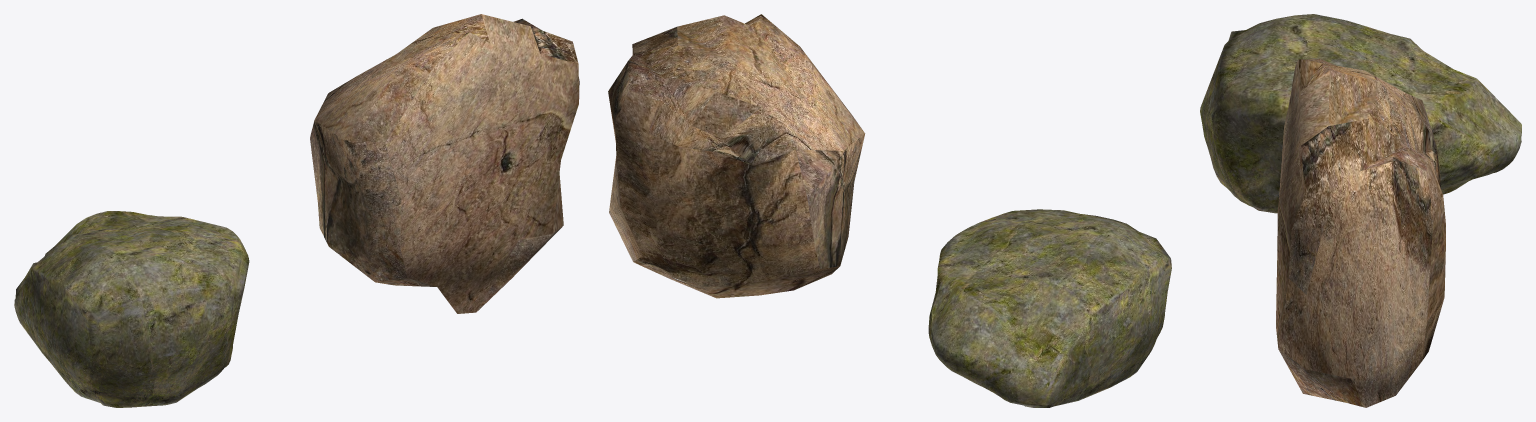
The model's file is rocks-natural.glb.
The picture shows the model from 3 angles, left to right: view 1: azimuth 30°, elevation 25°; view 2: azimuth 150°, elevation 25°; view 3: azimuth 270°, elevation 25°; orthographic projection. The views are drawn at different scales.
Visible parts, largest first — view 1: Rock_B, Rock_A; view 2: Rock_B, Rock_A; view 3: Rock_B, Rock_A.
Part boxes in pixels (x1,y1,x2,y2): Rock_B: [310, 14, 579, 313]; Rock_A: [14, 211, 249, 407]; Rock_B: [608, 14, 865, 298]; Rock_A: [928, 209, 1171, 407]; Rock_B: [1276, 59, 1445, 407]; Rock_A: [1200, 14, 1521, 213].
Size of the model in its own units: 2.2 by 1.14 by 1.
2 materials, 2 textured.
